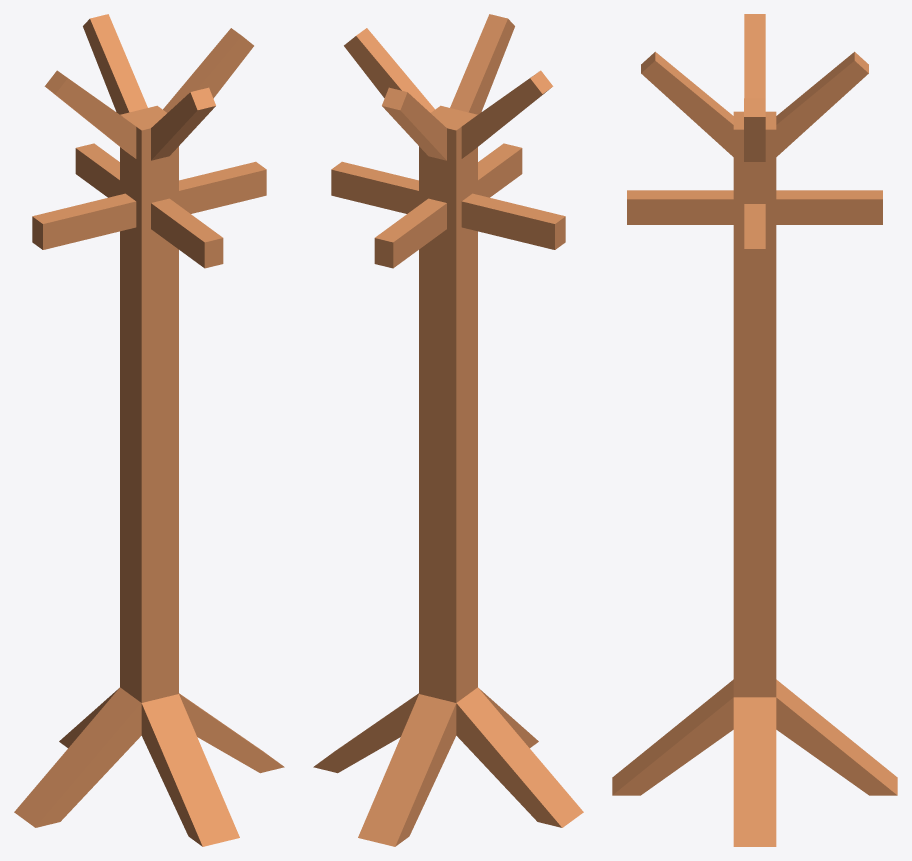
The model's file is coatrackstanding.gltf.
3 renders of one model, left to right at view 1: azimuth 30°, elevation 25°; view 2: azimuth 150°, elevation 25°; view 3: azimuth 270°, elevation 25°, orthographic.
Parts seen in each view (by area): view 1: coatrackstanding; view 2: coatrackstanding; view 3: coatrackstanding.
Part boxes in pixels (<box>): coatrackstanding: <box>14,14,284,846</box>; coatrackstanding: <box>313,14,583,846</box>; coatrackstanding: <box>612,14,897,846</box>.
Bounding box in the file's own units: 0.2728 × 0.77 × 0.2728.
Materials: 1 (1 with a texture image).
